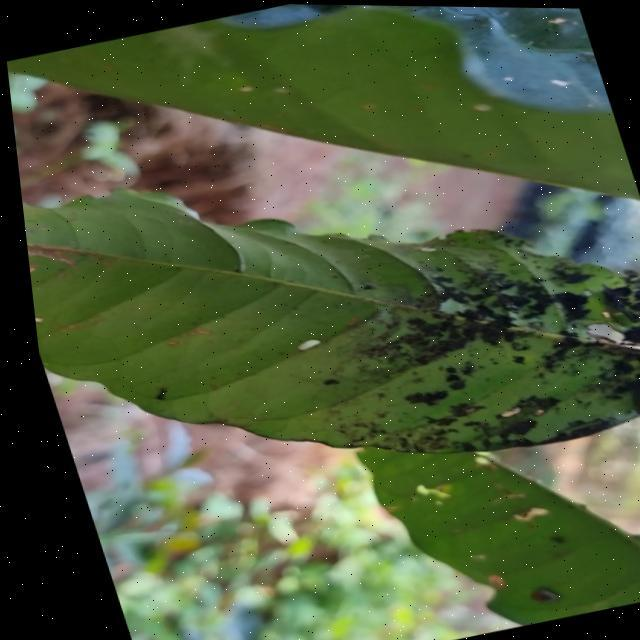leaves: (2, 178, 640, 480)
